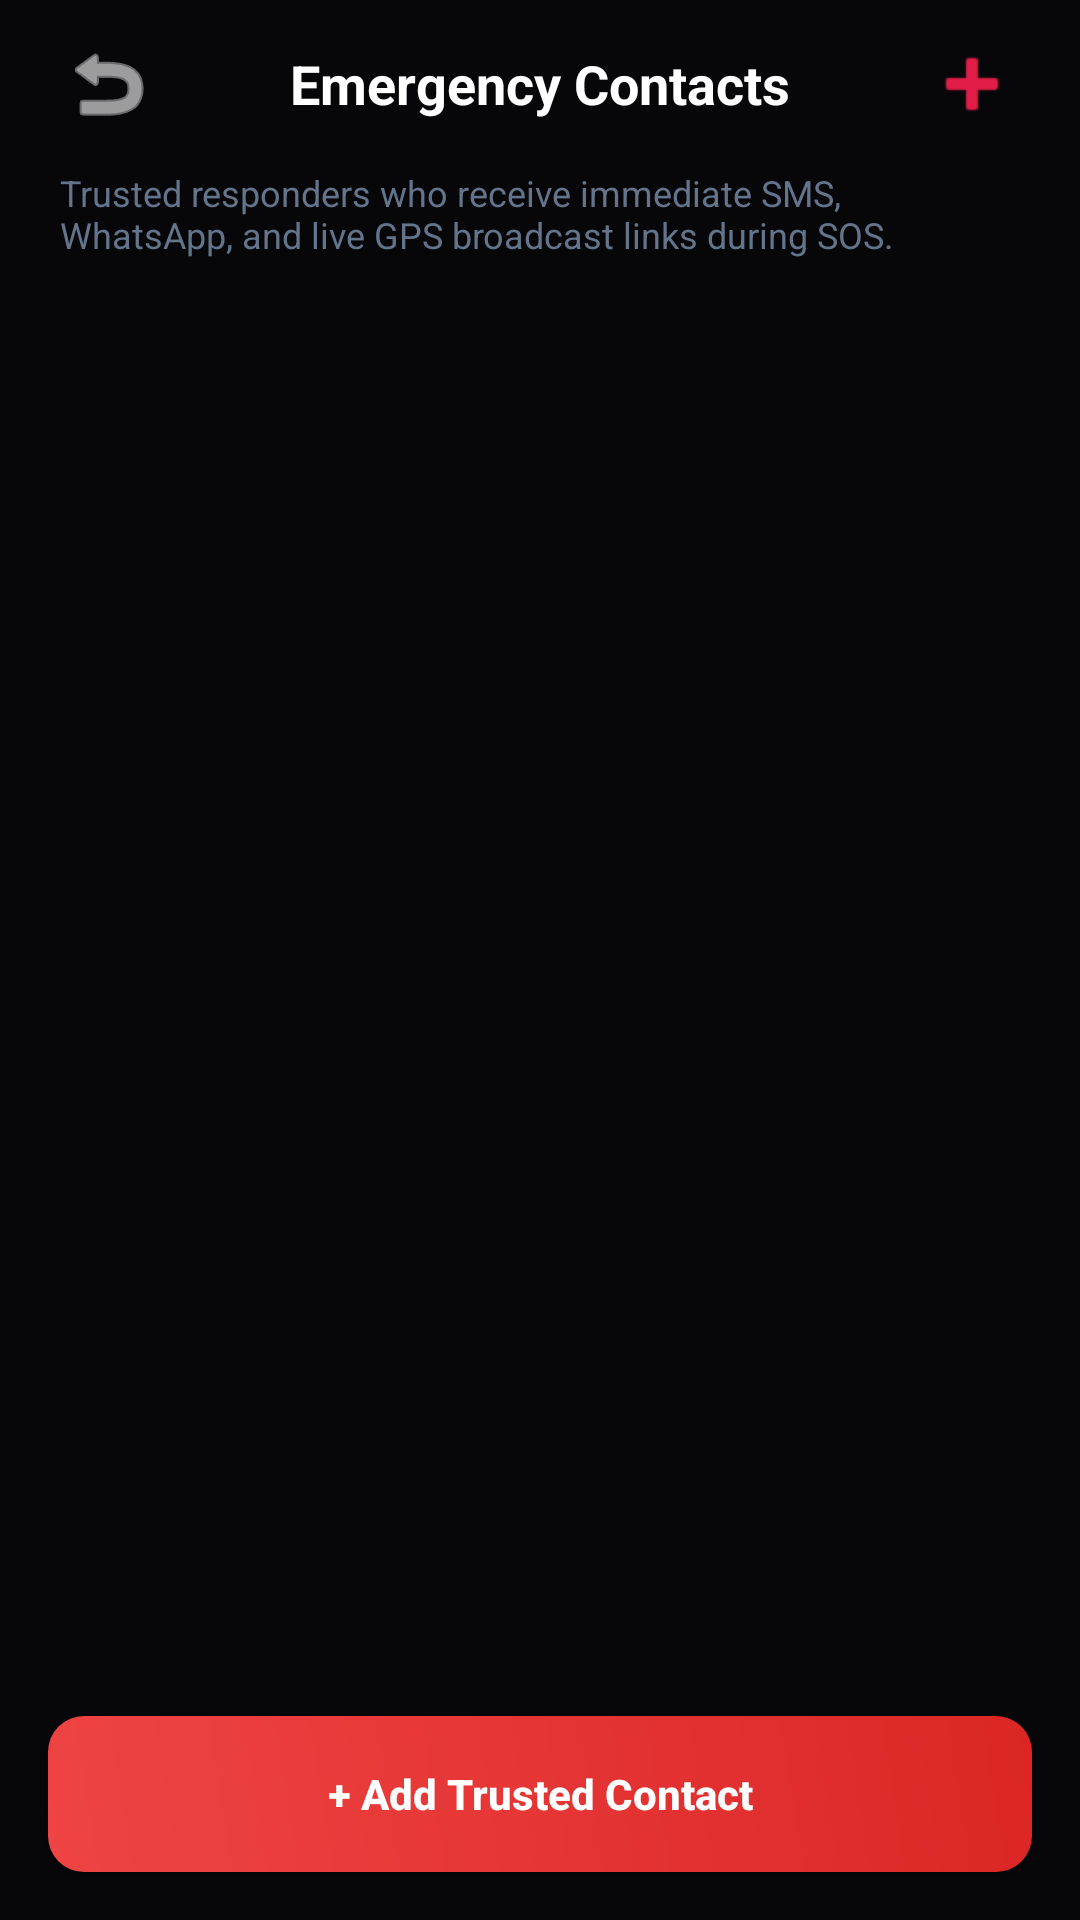

Point at icon controls on the screen. Image size 1080px×1920px, points as [x,y].
Add Contact: [972,84]
Back: [109,84]
